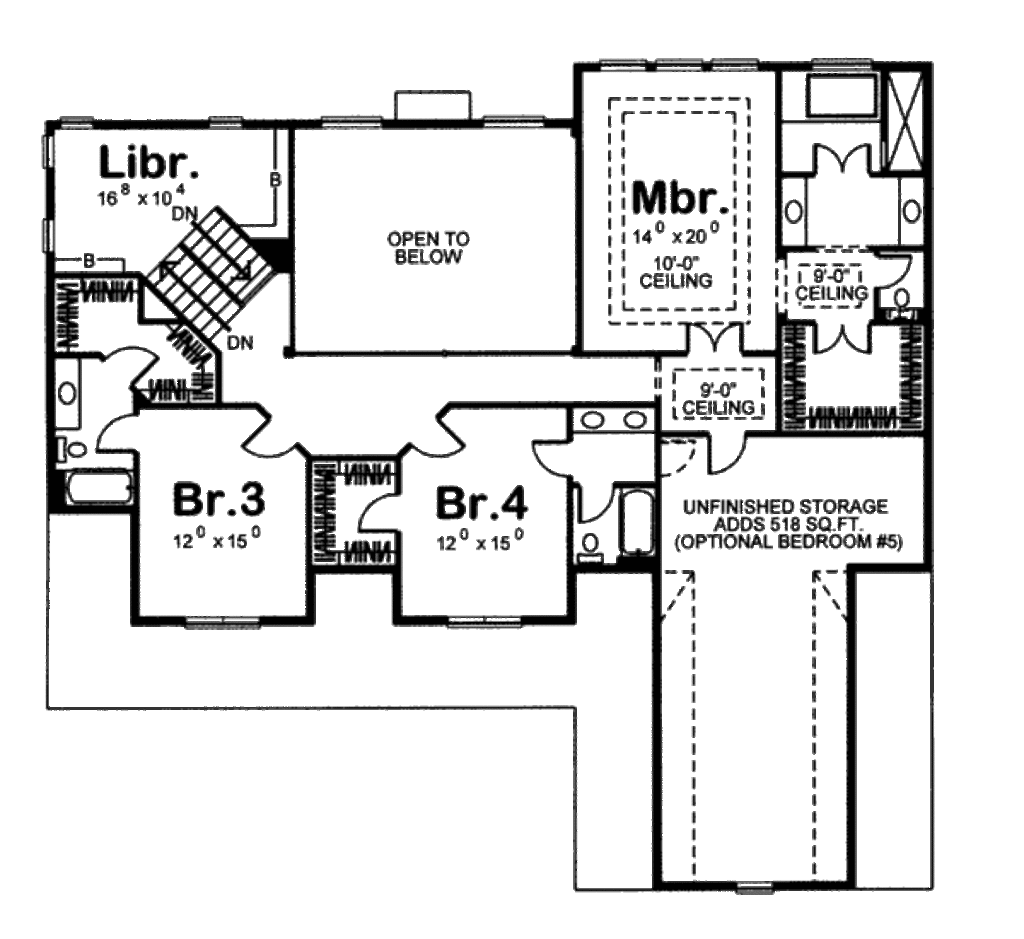door: (803, 135, 875, 181), (346, 480, 400, 538), (678, 316, 745, 362), (406, 413, 462, 468), (99, 338, 162, 385), (800, 314, 874, 354), (704, 425, 751, 480), (242, 407, 290, 459), (529, 432, 574, 481), (89, 410, 139, 454), (567, 477, 613, 519), (652, 433, 693, 480), (884, 248, 915, 291)
large_sink: (48, 420, 96, 468), (577, 535, 612, 568), (893, 288, 925, 322)
small_sink: (893, 174, 931, 248), (567, 400, 654, 432), (773, 175, 813, 243), (567, 403, 648, 433), (54, 362, 86, 420)
stairs: (129, 211, 286, 342)
tub: (61, 469, 136, 510)
window: (602, 54, 764, 77), (183, 610, 268, 635), (446, 601, 523, 626), (484, 109, 555, 135), (810, 52, 875, 72), (320, 110, 378, 132), (206, 110, 251, 135), (61, 111, 97, 136)
